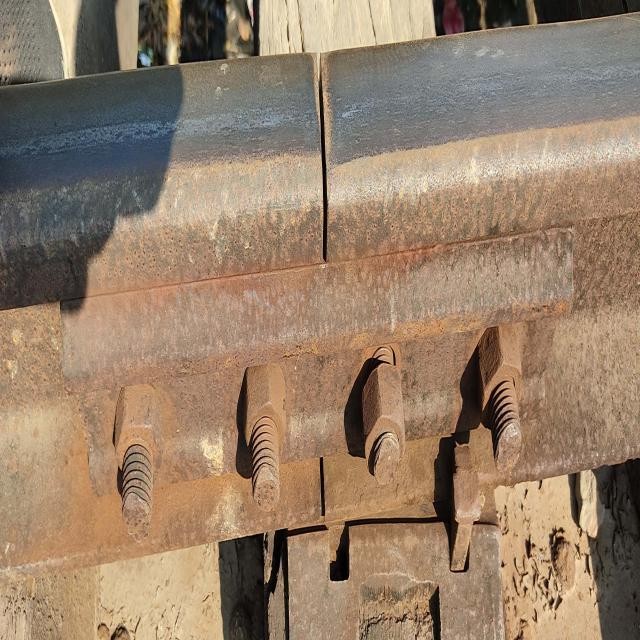Good Joint: (61, 228, 573, 539)
Missing Dogscrew: (328, 523, 349, 581)
